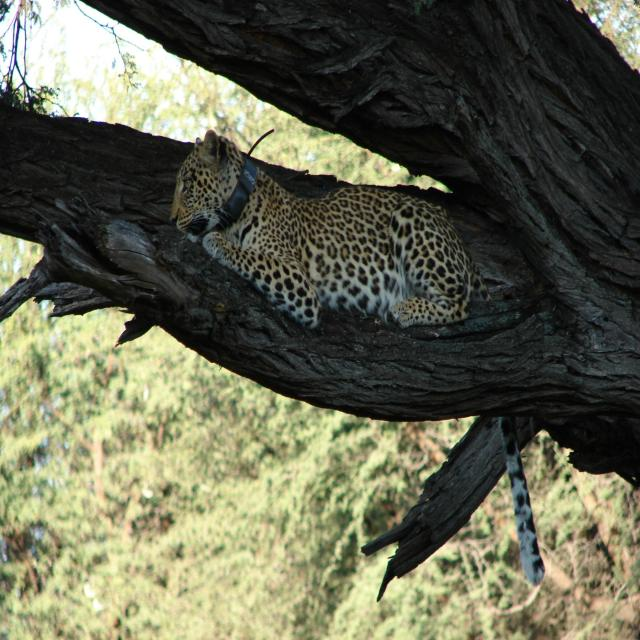Leopard: (180, 124, 480, 331)
